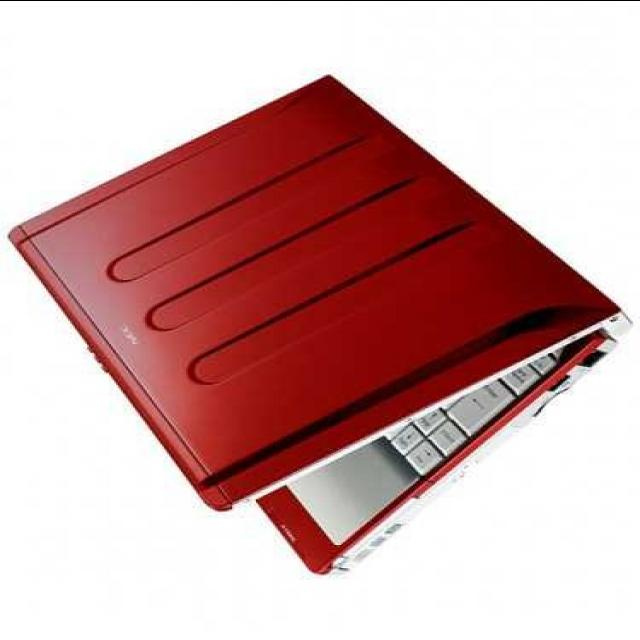laptop: (10, 56, 628, 568)
